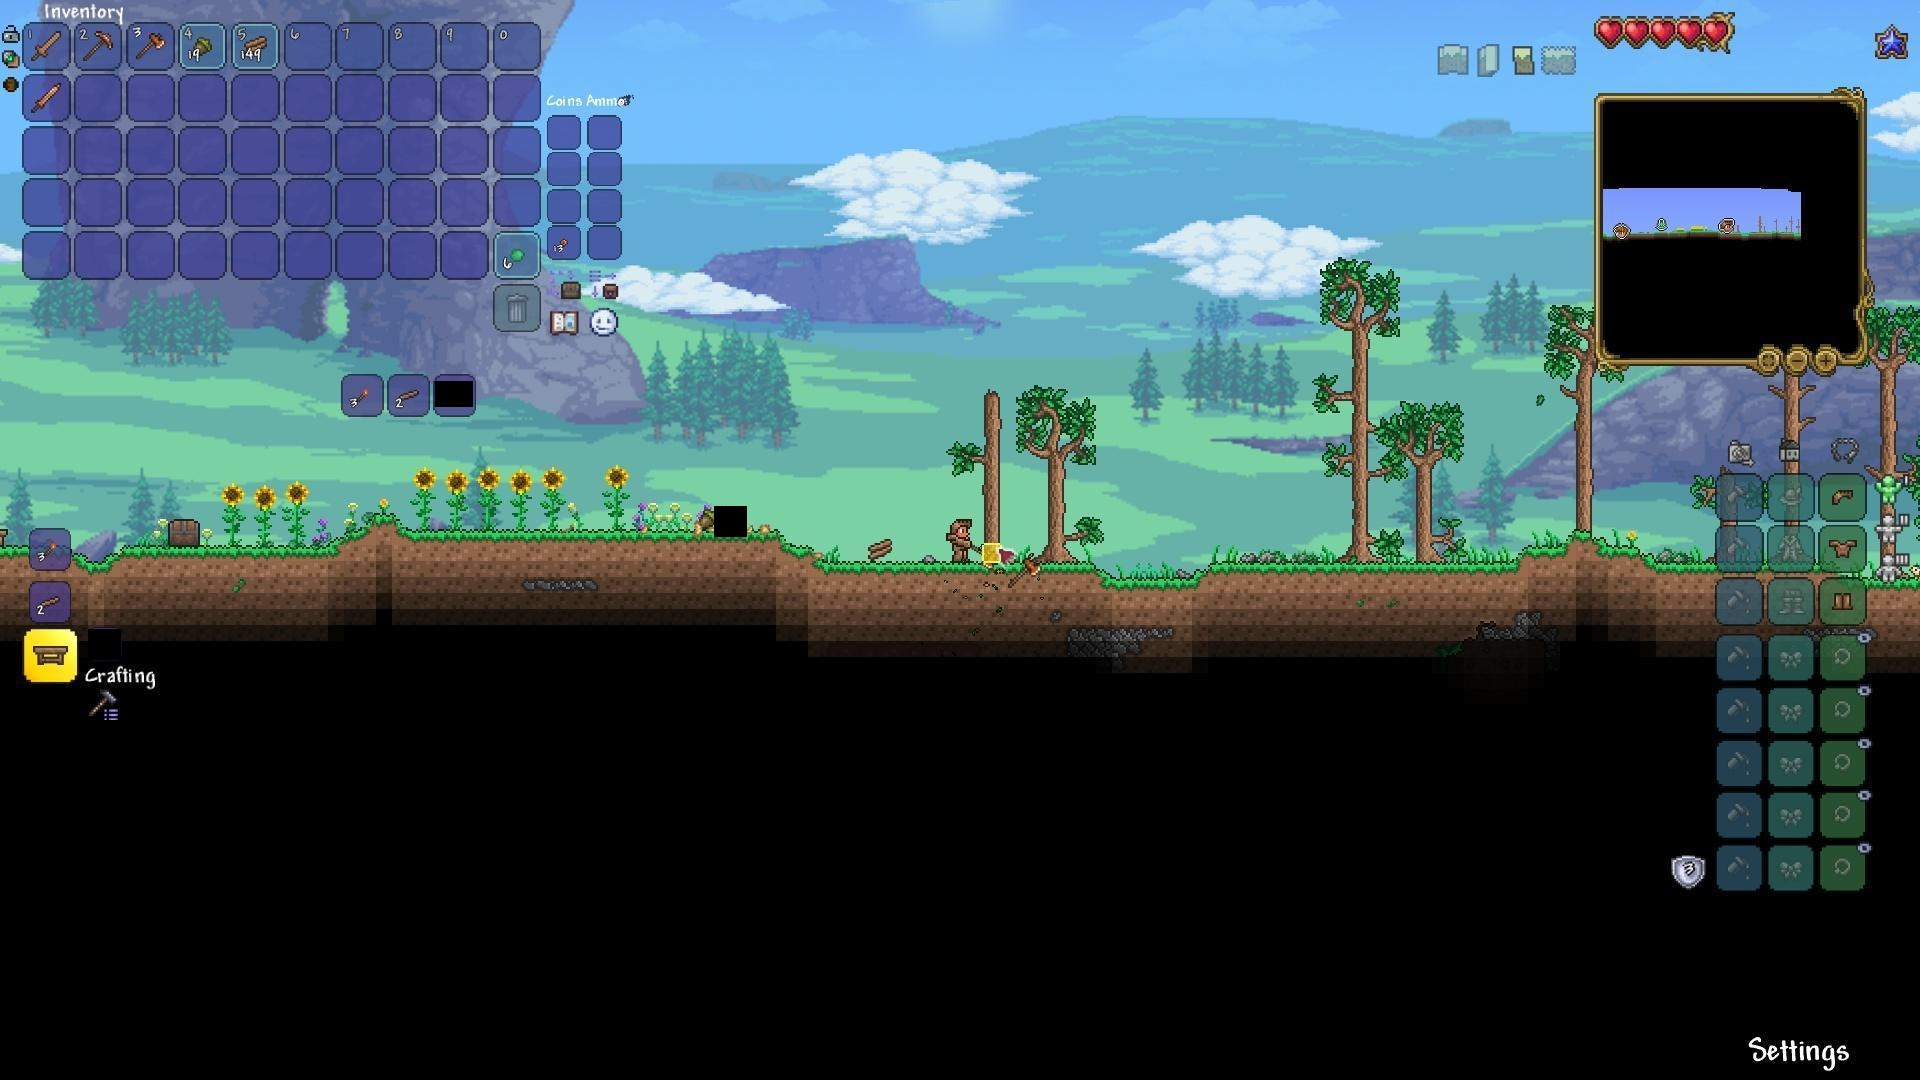breastplate: (1829, 537, 1859, 558)
helmet: (1826, 483, 1858, 512)
legs: (1832, 588, 1857, 615)
wood: (865, 535, 898, 566), (239, 28, 270, 58)
workbench: (32, 641, 69, 666)
